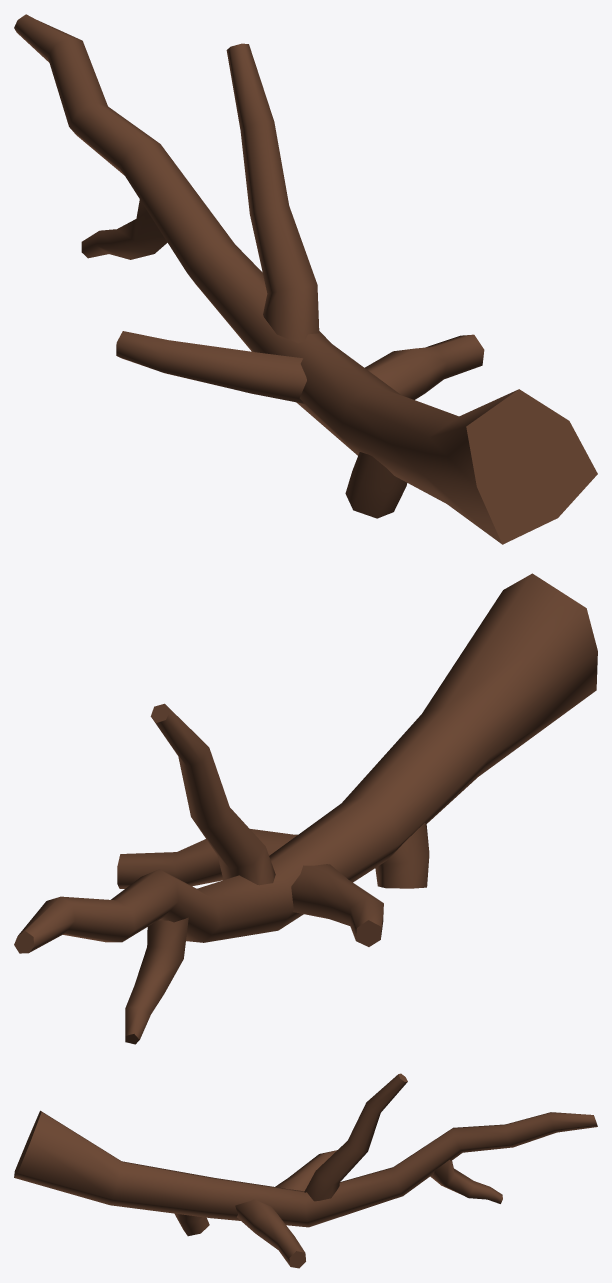
Rendered from itch_assetquest_pond_branch_2b.glb.
3 renders of one model, top to bottom at view 1: azimuth 30°, elevation 25°; view 2: azimuth 150°, elevation 25°; view 3: azimuth 270°, elevation 25°, orthographic. The views are drawn at different scales.
Parts seen in each view (by area): view 1: Branch_2b; view 2: Branch_2b; view 3: Branch_2b.
Boxes of the visible parts, box(x1,y1,x2,y2) form: Branch_2b: box(14, 14, 597, 544); Branch_2b: box(14, 573, 597, 1044); Branch_2b: box(14, 1073, 597, 1268).
Bounding box in the file's own units: 0.3274 × 0.3138 × 0.96.
